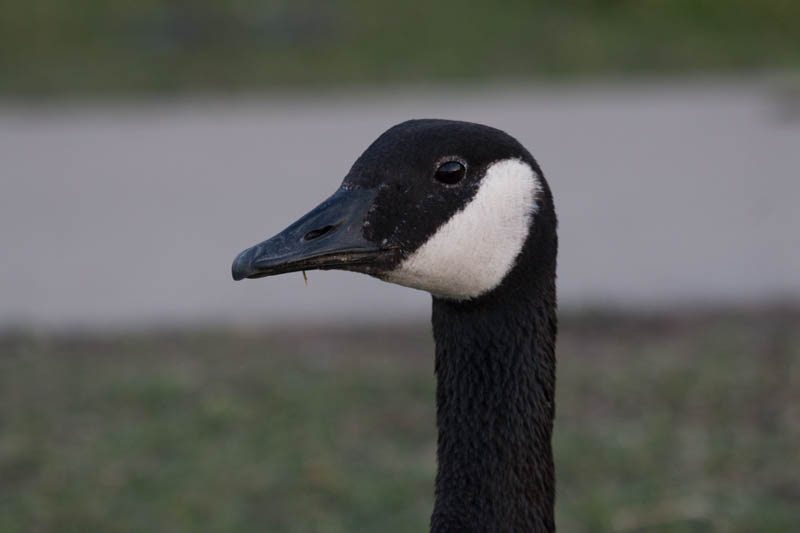goose-head: (231, 119, 558, 301)
